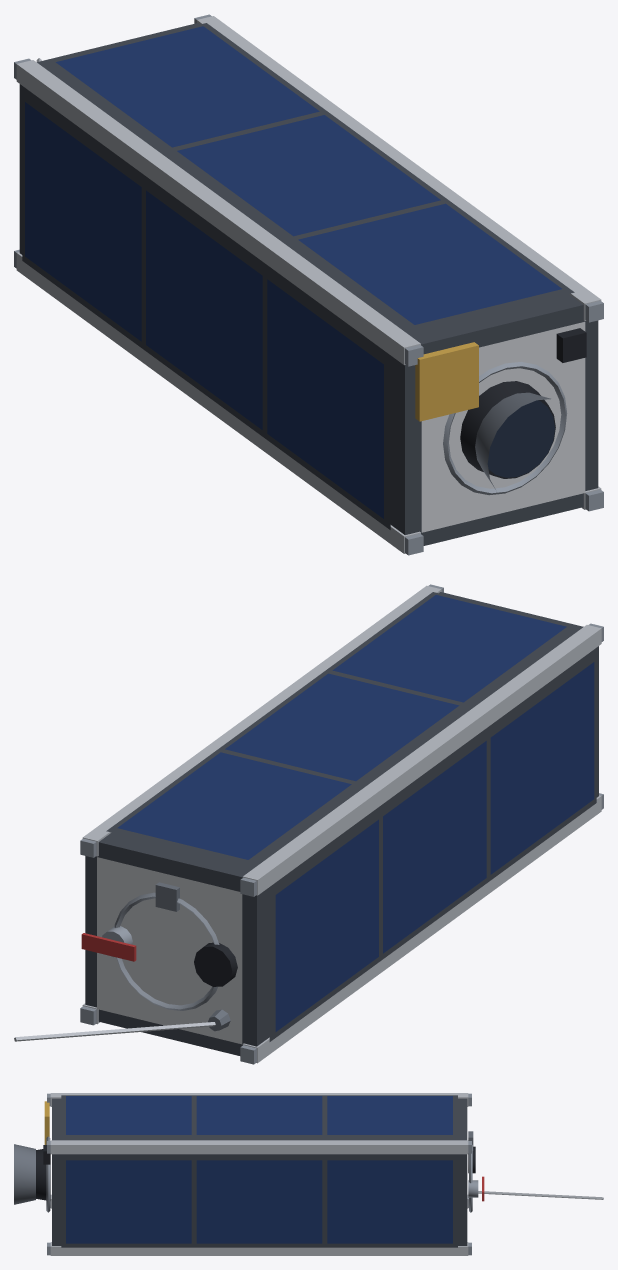
The model's file is cubesat-3u.glb.
3 views of the same model, one above another, from view 1: azimuth 30°, elevation 25°; view 2: azimuth 150°, elevation 25°; view 3: azimuth 270°, elevation 25° (orthographic). The views are drawn at different scales.
Parts seen in each view (by area): view 1: solar-panel, body; view 2: solar-panel, body, foil; view 3: solar-panel, body, foil.
Part boxes in pixels (x1,y1,x2,y2): solar-panel: (25, 26, 561, 518); body: (14, 14, 603, 555); solar-panel: (117, 595, 594, 1031); body: (80, 584, 603, 1064); foil: (14, 1022, 215, 1041); solar-panel: (66, 1096, 452, 1243); body: (14, 1093, 484, 1255); foil: (478, 1191, 603, 1199).
Size of the model in its own units: 0.106 by 0.106 by 0.4811.
